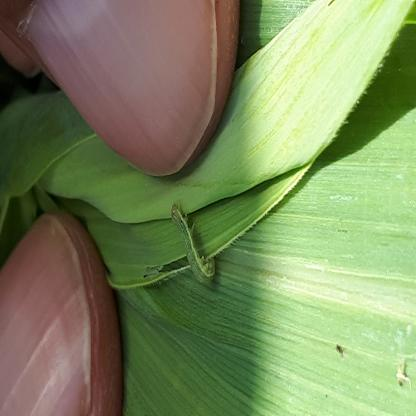armyworm: (72, 300, 125, 384)
